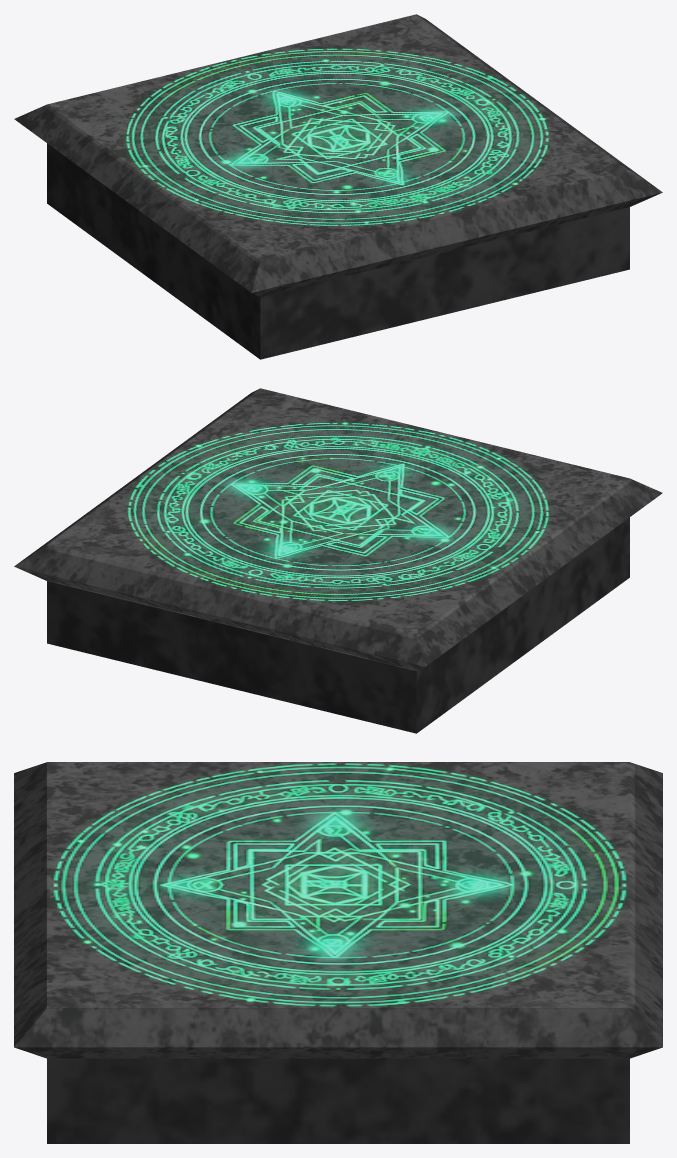
The model's file is Dev_pedestal_02.fbx.
3 renders of one model, top to bottom at view 1: azimuth 30°, elevation 25°; view 2: azimuth 150°, elevation 25°; view 3: azimuth 270°, elevation 25°, orthographic. The views are drawn at different scales.
Visible parts, largest first — view 1: Dev_pedestal_02; view 2: Dev_pedestal_02; view 3: Dev_pedestal_02.
Part boxes in pixels (x1,y1,x2,y2): Dev_pedestal_02: [14, 14, 662, 359]; Dev_pedestal_02: [14, 388, 662, 733]; Dev_pedestal_02: [14, 762, 662, 1143].
Size of the model in its own units: 101 by 23.31 by 101.
Materials: 1 (1 with a texture image).
